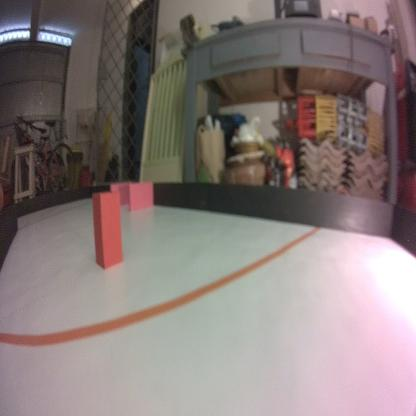magenta: (127, 182, 154, 212)
red: (91, 187, 125, 271)
